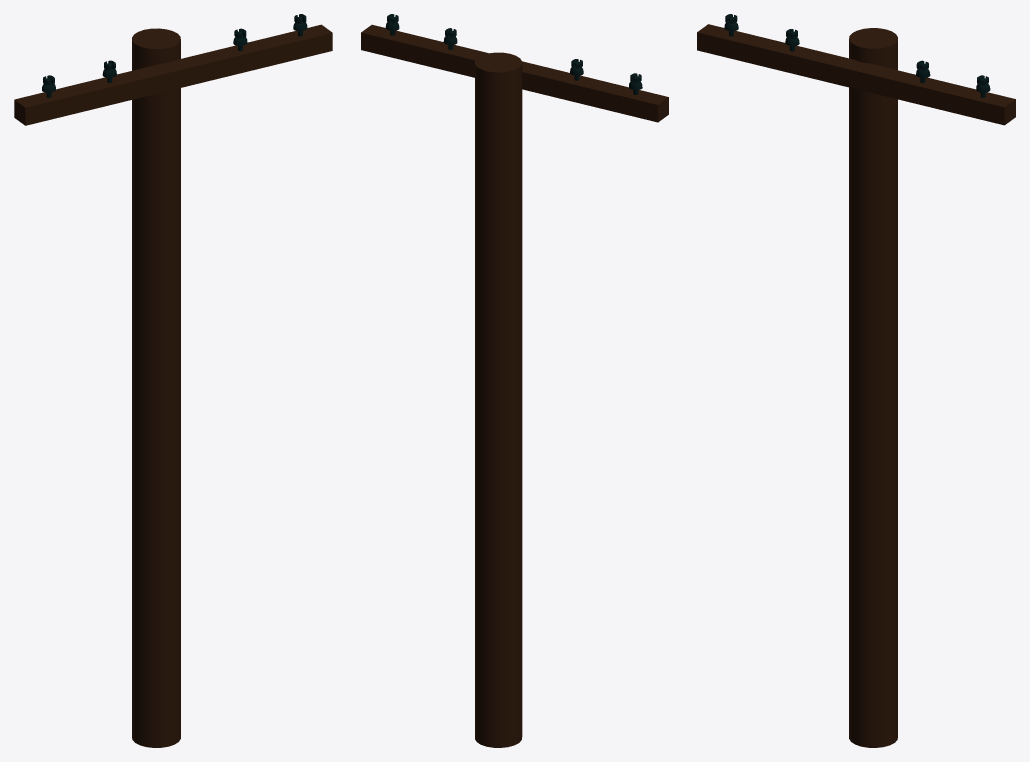
File: Pole_4.fbx
The picture shows the model from 3 angles, left to right: view 1: azimuth 30°, elevation 25°; view 2: azimuth 150°, elevation 25°; view 3: azimuth 330°, elevation 25°; orthographic projection. The views are drawn at different scales.
Parts seen in each view (by area): view 1: polySurface151; view 2: polySurface151; view 3: polySurface151.
Part boxes in pixels (x1,y1,x2,y2): polySurface151: [14, 14, 332, 747]; polySurface151: [361, 14, 668, 747]; polySurface151: [697, 14, 1015, 747].
Bounding box in the file's own units: 3.24 × 7.09 × 0.6389.
